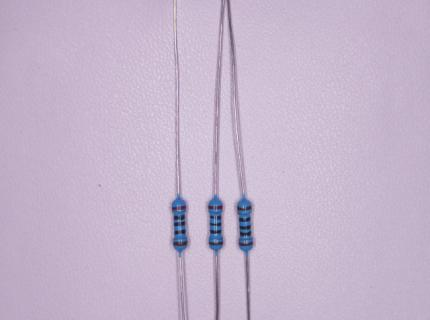Black band: (174, 221, 185, 227), (239, 225, 252, 230), (173, 215, 186, 220), (238, 216, 250, 221), (240, 231, 252, 236), (174, 229, 185, 234), (209, 215, 221, 219), (209, 222, 221, 226), (210, 229, 222, 233)
Brown band: (172, 205, 187, 211), (173, 240, 187, 246), (237, 206, 252, 211), (208, 242, 223, 246)
Red band: (239, 242, 254, 247), (208, 205, 223, 209)
